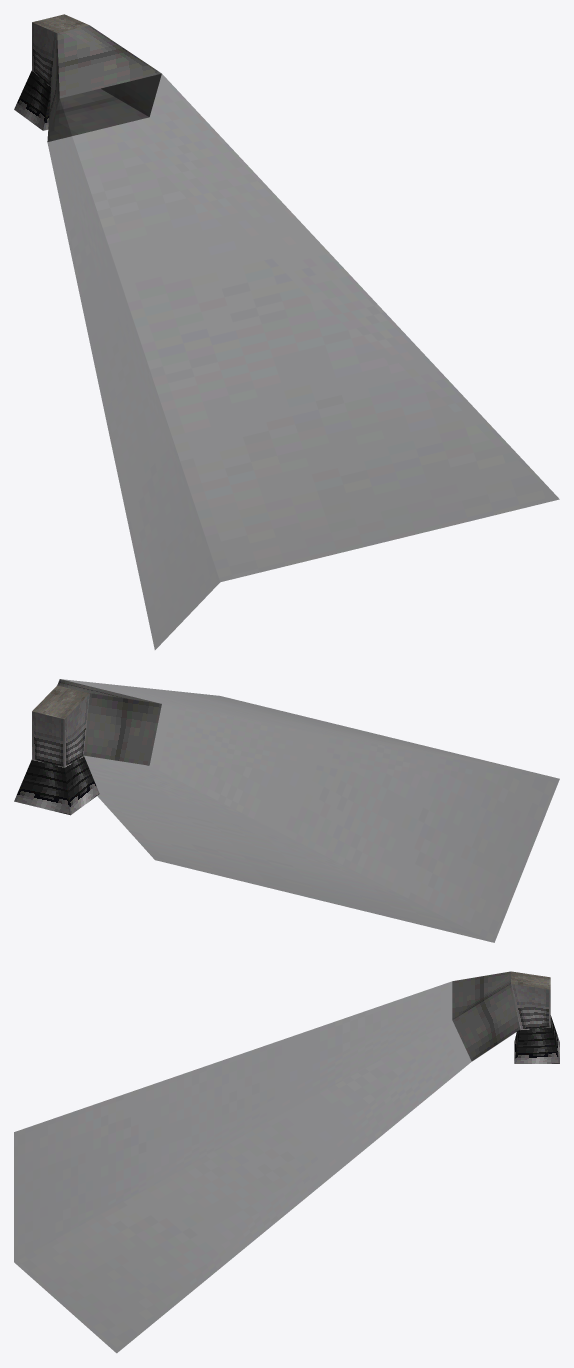
3 renders of one model, top to bottom at view 1: azimuth 30°, elevation 25°; view 2: azimuth 150°, elevation 25°; view 3: azimuth 270°, elevation 25°, orthographic. The views are drawn at different scales.
Parts seen in each view (by area): view 1: Conft_obj_062; view 2: Conft_obj_062; view 3: Conft_obj_062.
Boxes of the visible parts, x1,y1,x2,y2 form: Conft_obj_062: [14, 14, 559, 649]; Conft_obj_062: [14, 679, 559, 942]; Conft_obj_062: [14, 971, 559, 1352].
Bounding box in the file's own units: 1.49 × 1.66 × 2.64.
Materials: 4 (4 with a texture image).
